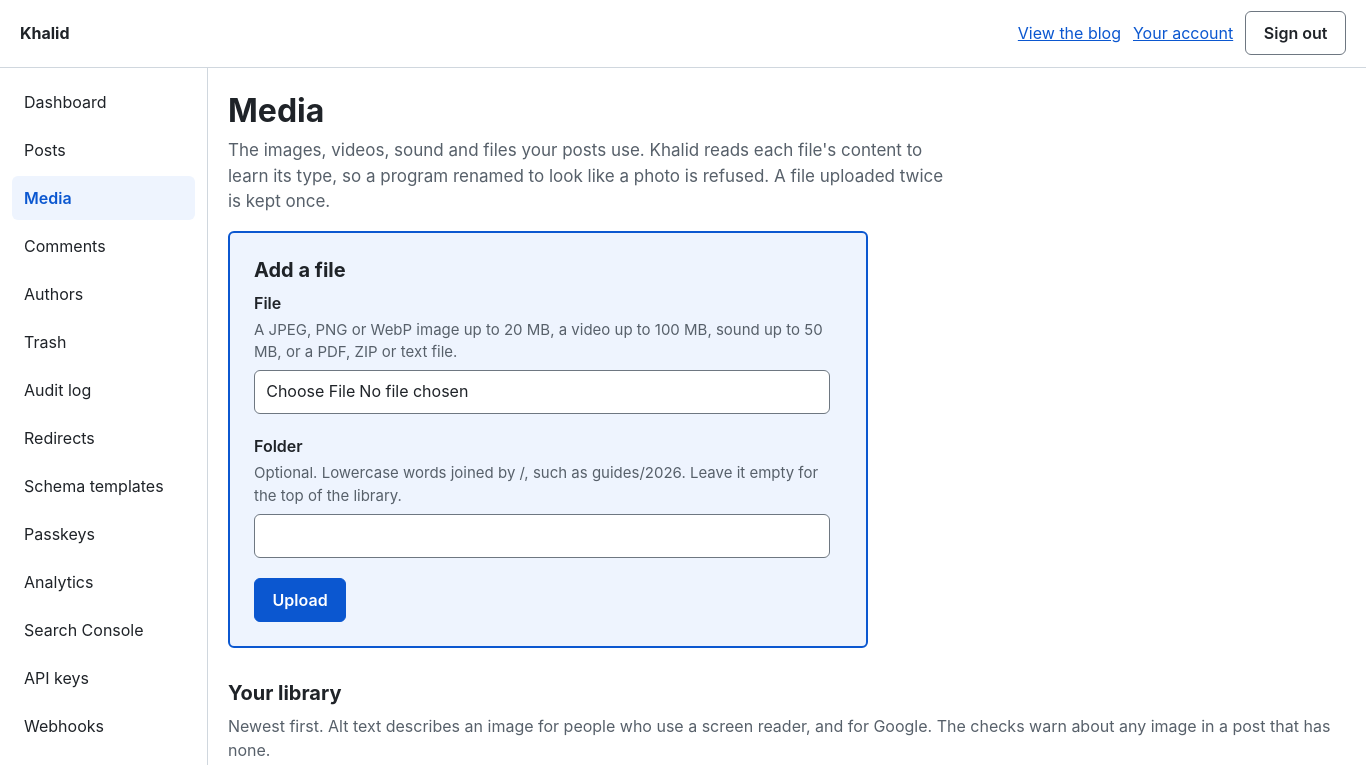
adding a file › asks for a file before uploading anything
This screenshot has width=1366, height=765.
Click the button "Upload" at (300, 600), box x1=254 y1=578 x2=346 y2=622
(page scrolled)
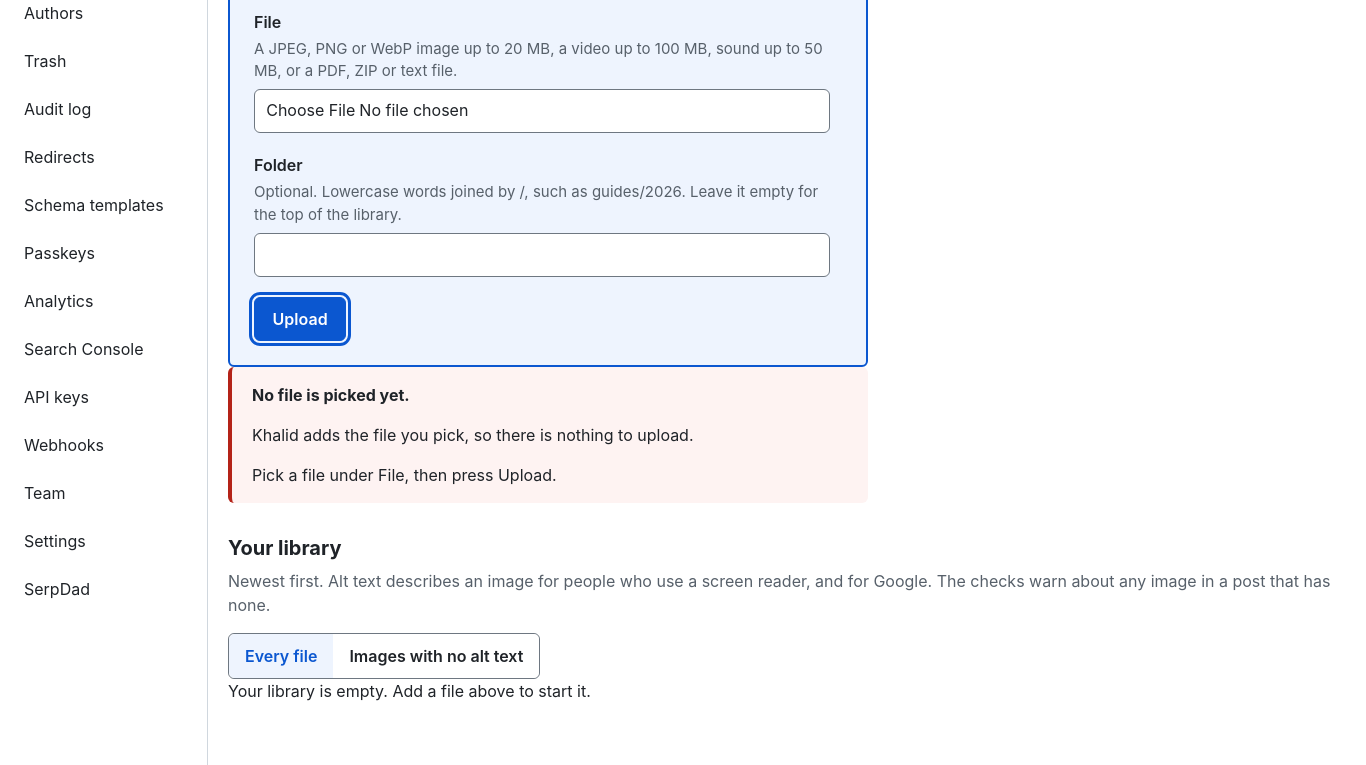
Expected: the message that starts with "No file is picked yet." is shown, x1=252 y1=385 x2=410 y2=405
